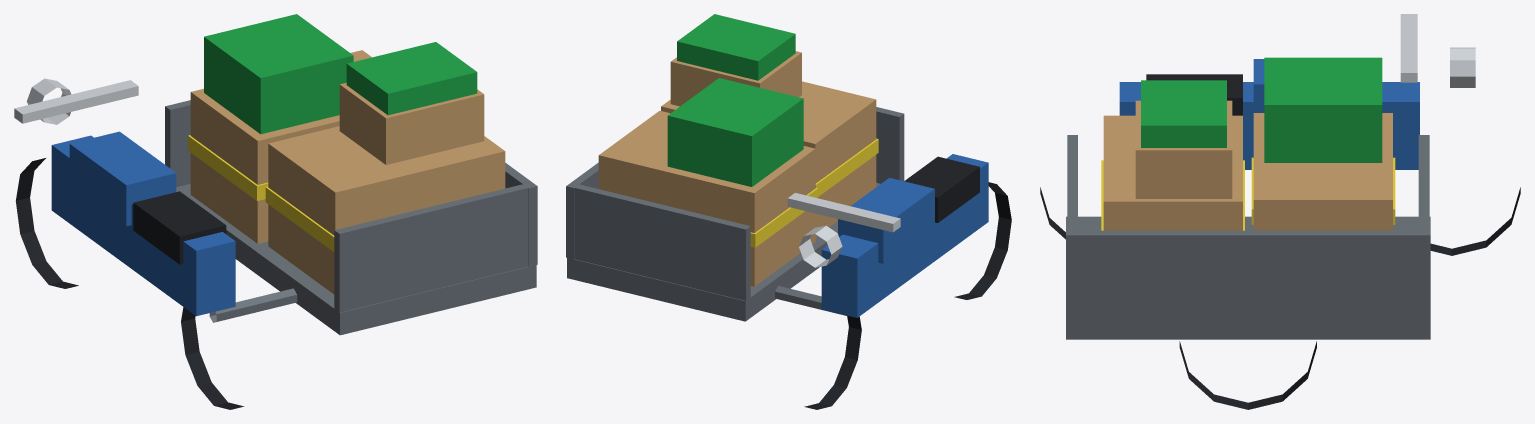
Rendered from env_cargo_tricycle_boxes.obj.
3 renders of one model, left to right at view 1: azimuth 30°, elevation 25°; view 2: azimuth 150°, elevation 25°; view 3: azimuth 270°, elevation 25°, orthographic. The views are drawn at different scales.
Visible parts, largest first — view 1: env_cargo_tricycle_boxes; view 2: env_cargo_tricycle_boxes; view 3: env_cargo_tricycle_boxes.
Part boxes in pixels (box(x1,y1,x2,y2)): env_cargo_tricycle_boxes: box(14, 14, 537, 409); env_cargo_tricycle_boxes: box(566, 14, 1011, 409); env_cargo_tricycle_boxes: box(1040, 14, 1520, 409).
Bounding box in the file's own units: 2.07 × 1.36 × 2.24.
